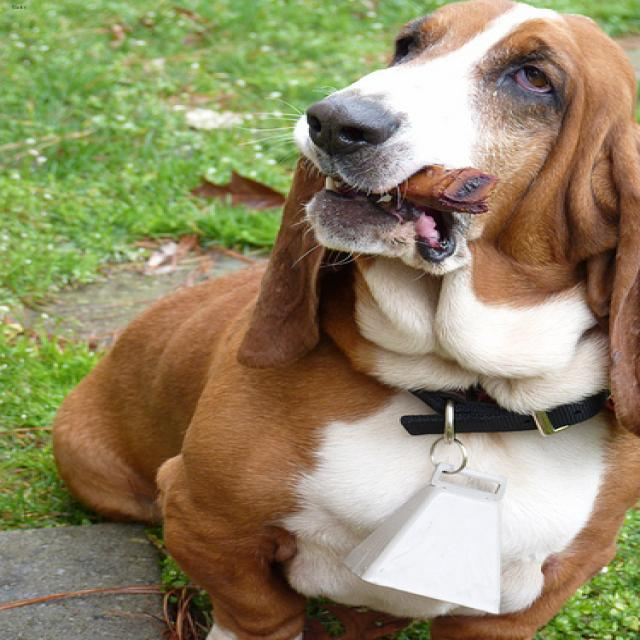dog: (235, 0, 636, 436)
